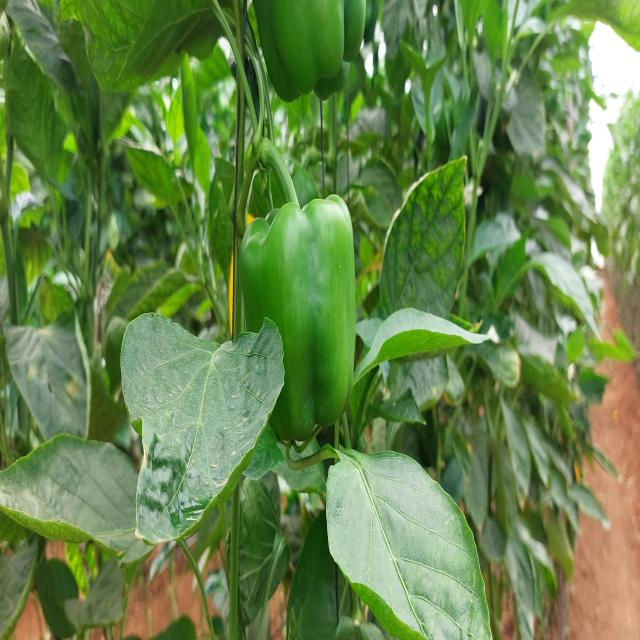Green--Not-ready-to-harvest: (242, 200, 364, 456), (254, 5, 371, 104)
